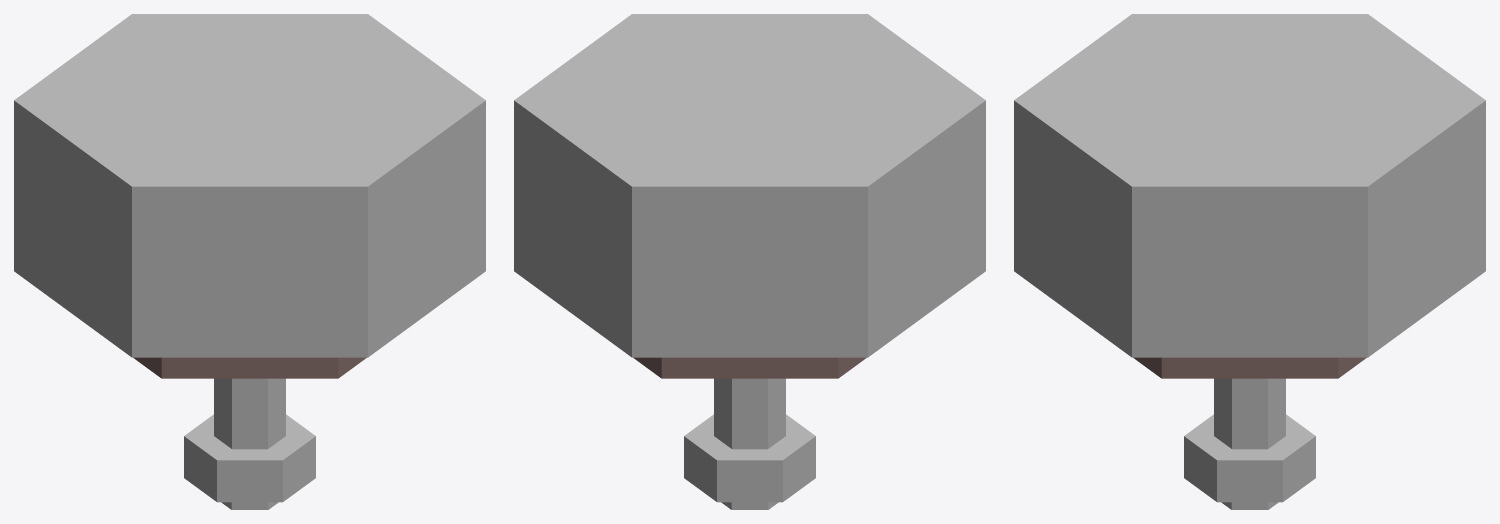
File: Fan.fbx
The picture shows the model from 3 angles, left to right: view 1: azimuth 30°, elevation 25°; view 2: azimuth 150°, elevation 25°; view 3: azimuth 270°, elevation 25°; orthographic projection.
Visible parts, largest first — view 1: Cylinder.002; view 2: Cylinder.002; view 3: Cylinder.002.
Part boxes in pixels (left/top/right/bottom): Cylinder.002: left=14, top=14, right=485, bottom=509; Cylinder.002: left=514, top=14, right=985, bottom=509; Cylinder.002: left=1014, top=14, right=1485, bottom=509.
Size of what is drawn, in the model's own units: 106 by 113 by 122.
